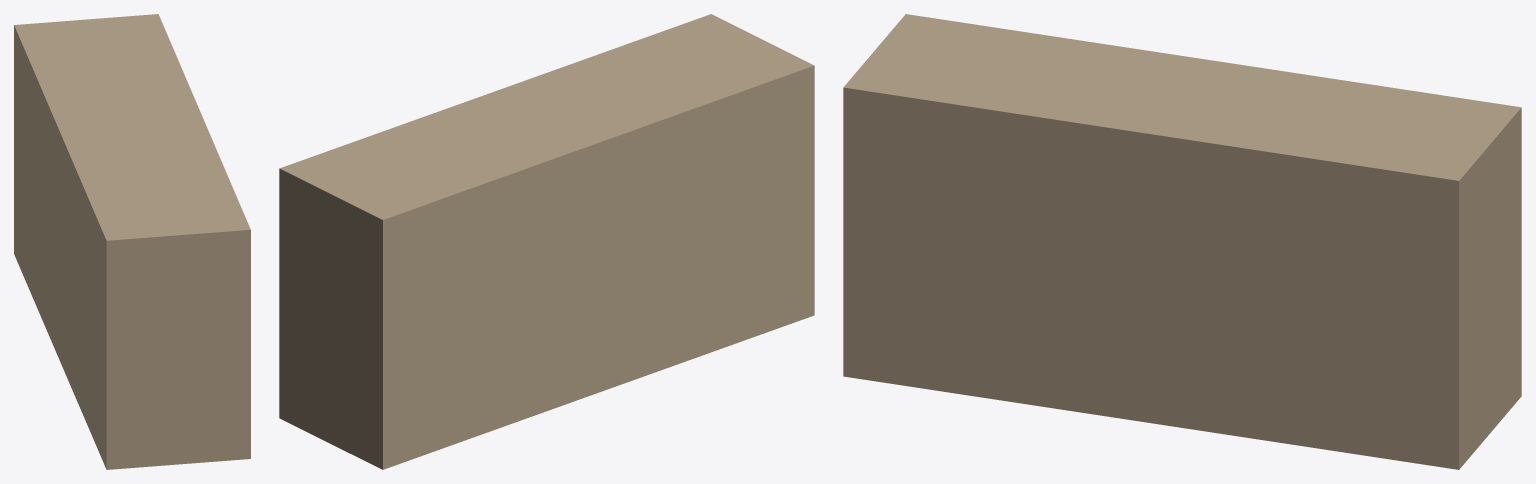
The model's file is bld_108400866.dae.
3 renders of one model, left to right at view 1: azimuth 30°, elevation 25°; view 2: azimuth 150°, elevation 25°; view 3: azimuth 270°, elevation 25°, orthographic. The views are drawn at different scales.
Parts seen in each view (by area): view 1: bld_108400866; view 2: bld_108400866; view 3: bld_108400866.
Part boxes in pixels (x1=…): bld_108400866: x1=14, y1=14, x2=250, y2=469; bld_108400866: x1=279, y1=14, x2=814, y2=469; bld_108400866: x1=843, y1=14, x2=1521, y2=469.
Bounding box in the file's own units: 9.91 × 17.02 × 8.
